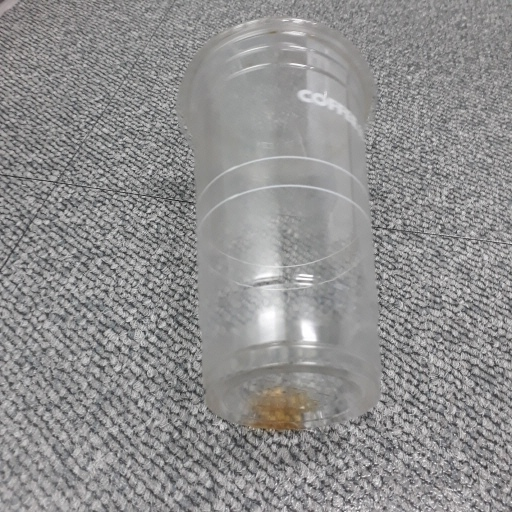Plastic_2: (176, 16, 383, 434)
